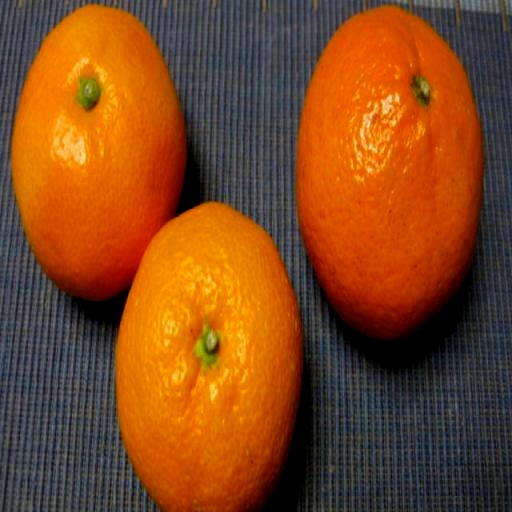fruit: (297, 8, 482, 340), (116, 203, 303, 511), (12, 6, 186, 300)
